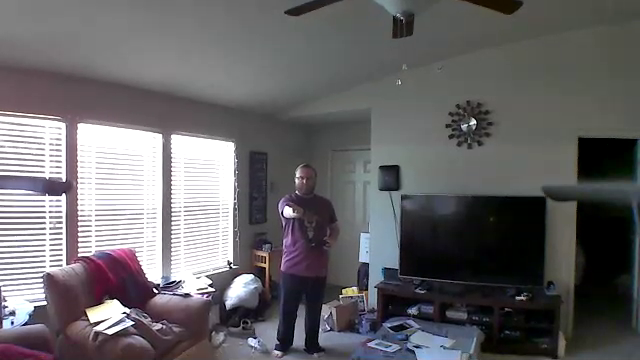land: (283, 201, 306, 219)
